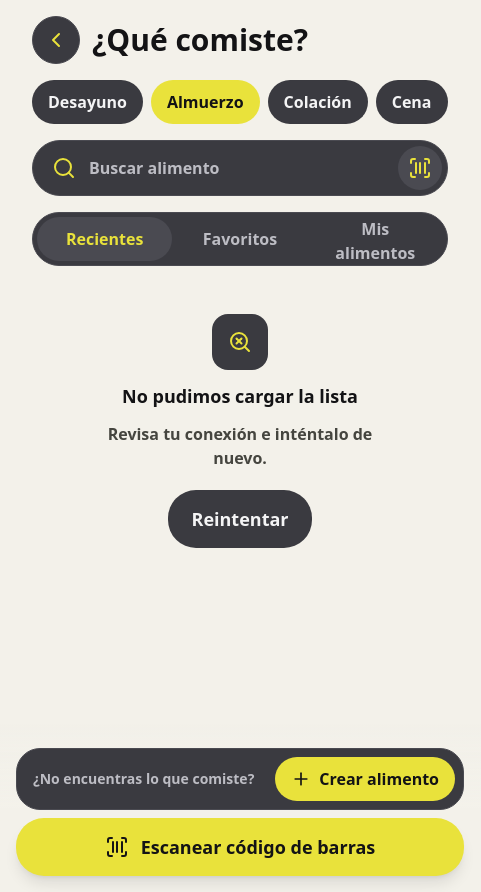
Test: AddFoodPage › says so when nothing matches
This screenshot has width=481, height=892.
Type "xyz" into the search field labelled "Buscar alimento" at (240, 168), box top-left (32, 140), bottom-right (448, 196)
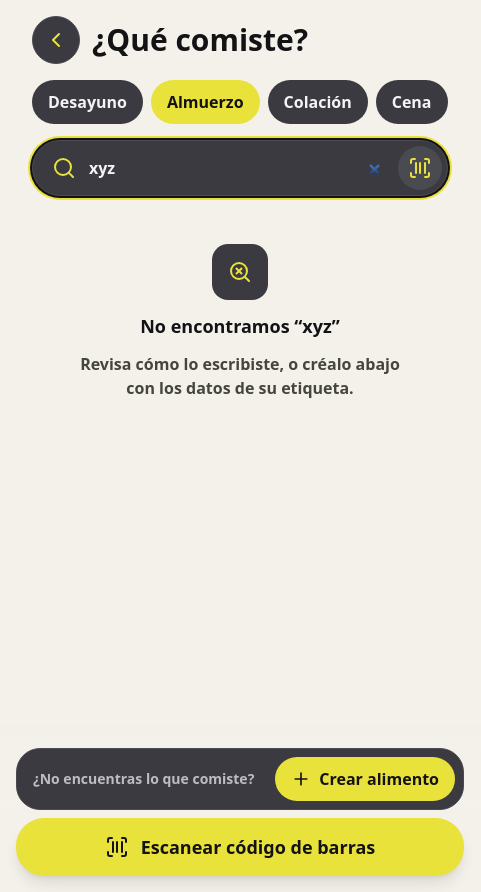
Expected: the heading "No encontramos “xyz”" is shown, top-left (140, 312), bottom-right (340, 340)
